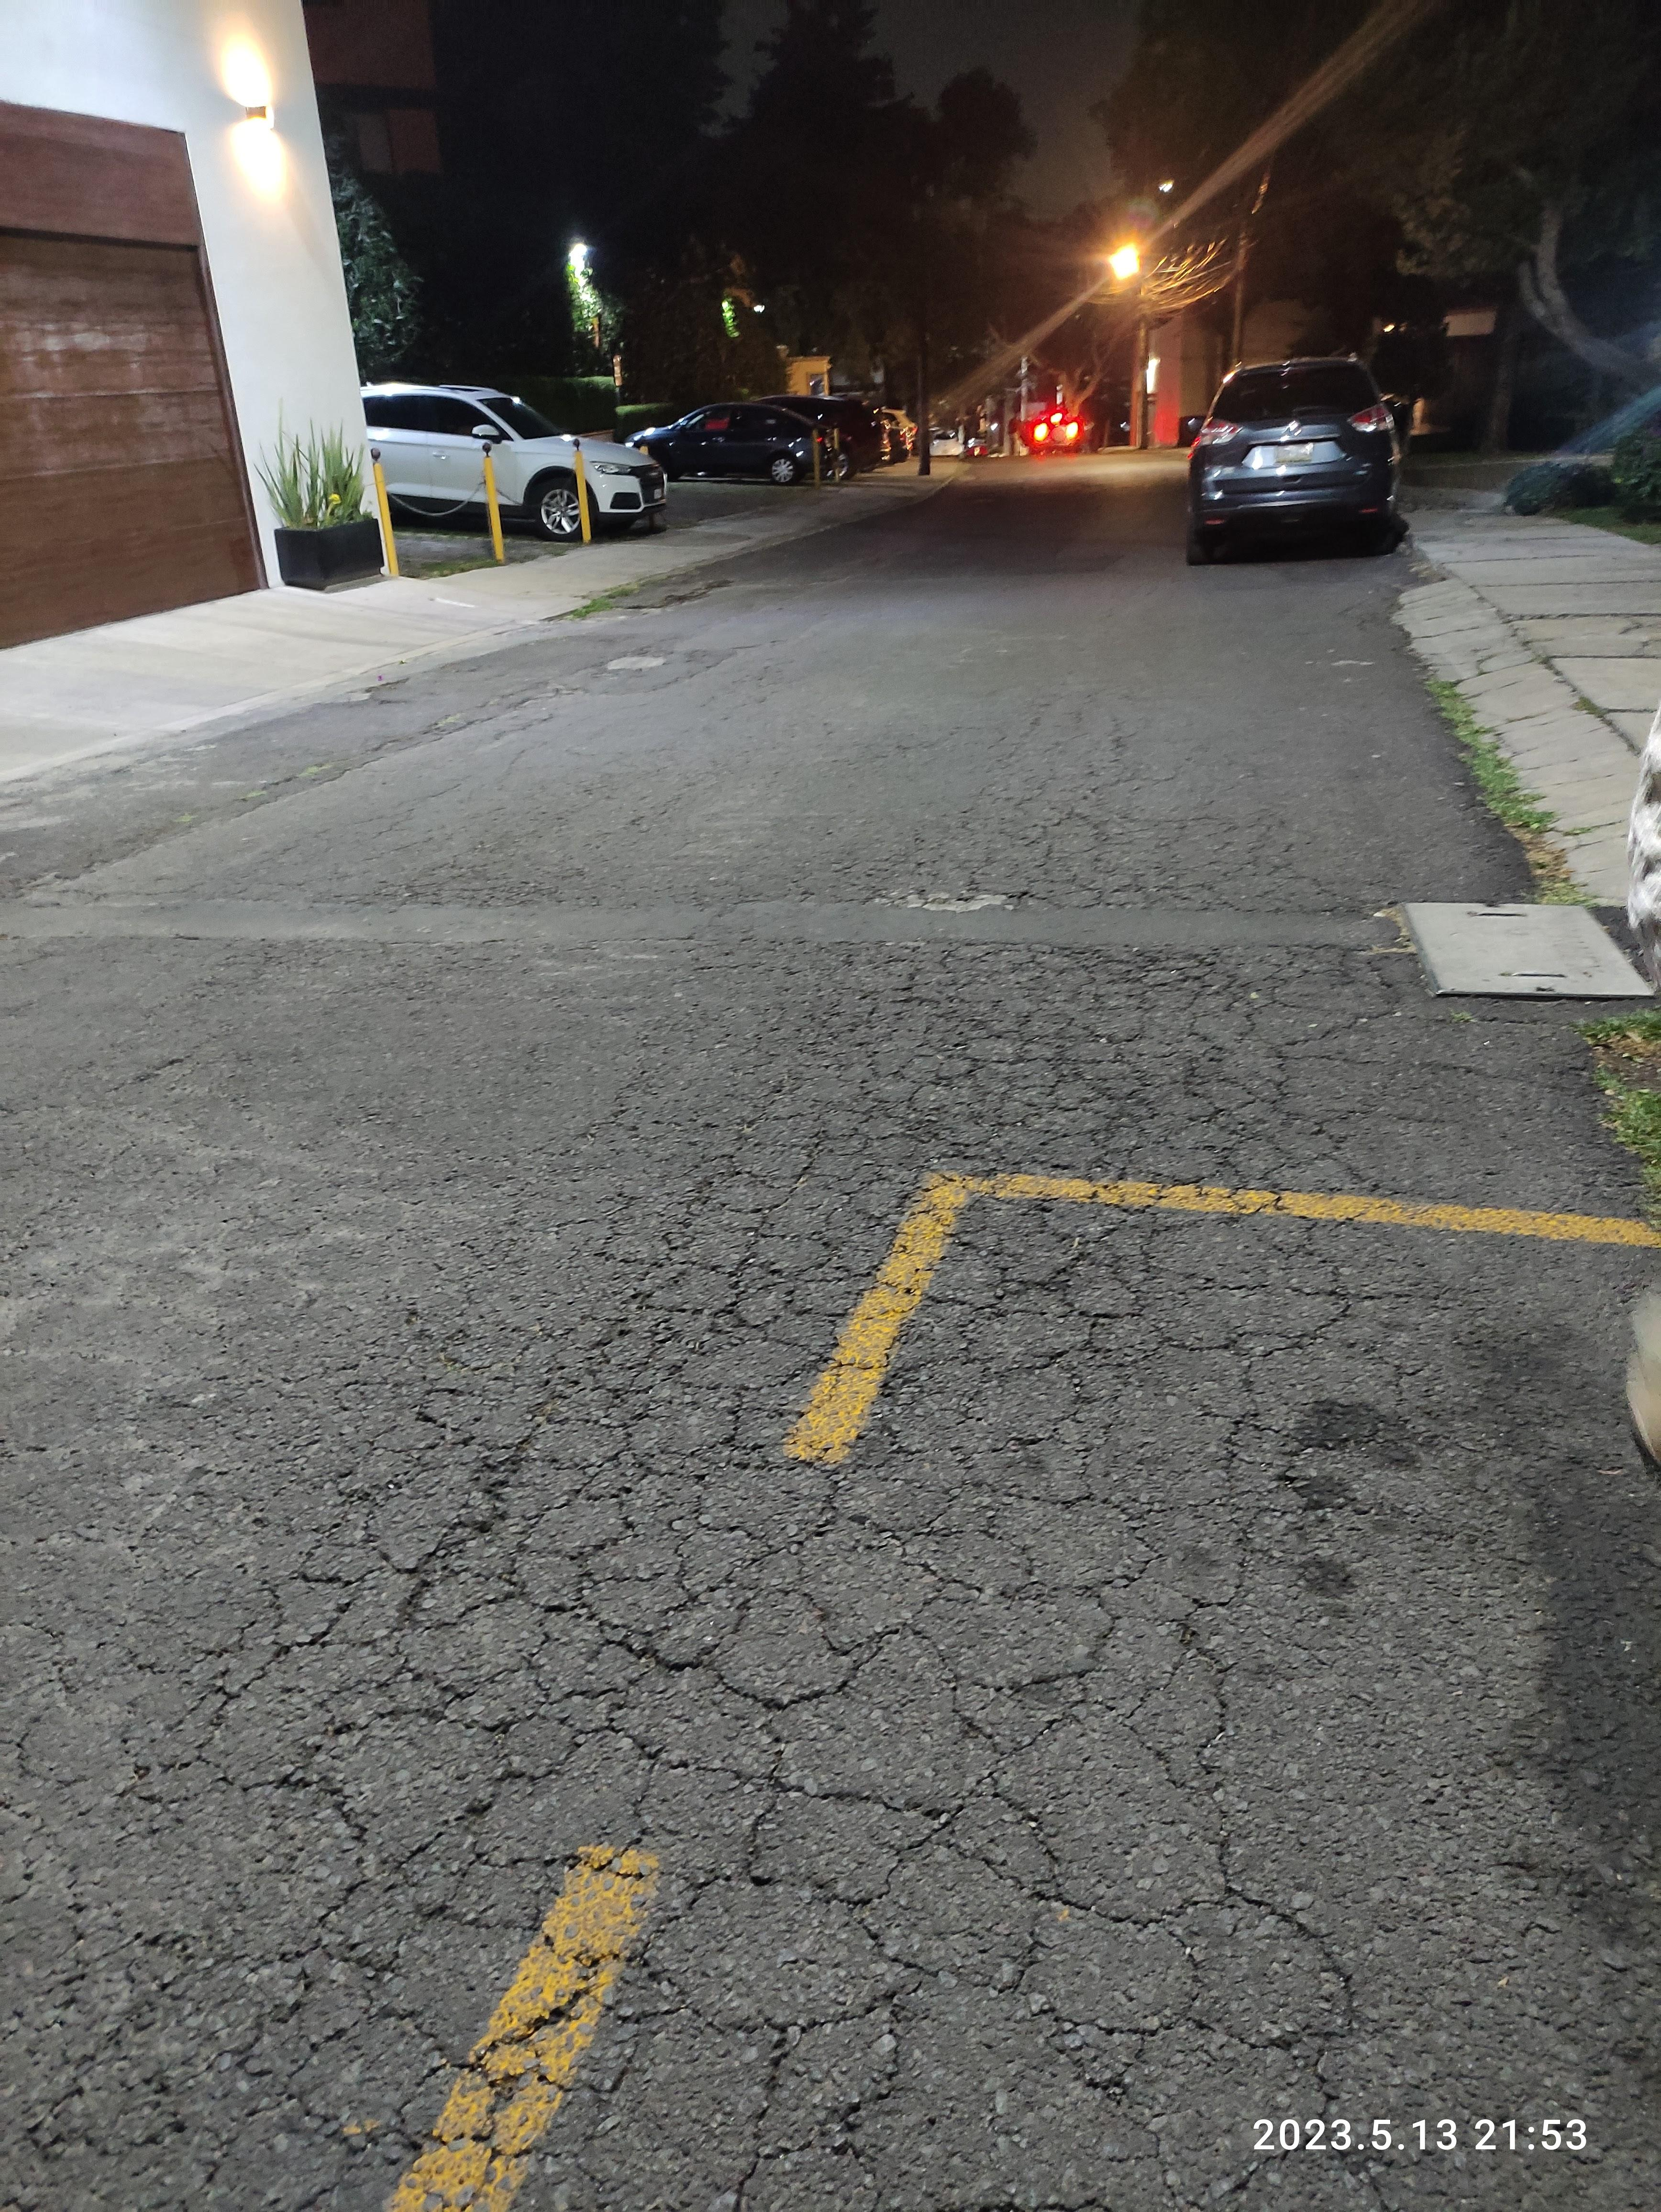alligator-crack: (721, 815, 1363, 2193), (51, 1345, 714, 2212)
